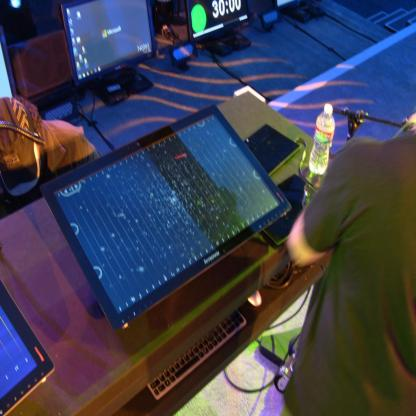board: (0, 289, 54, 407), (310, 102, 334, 179)
